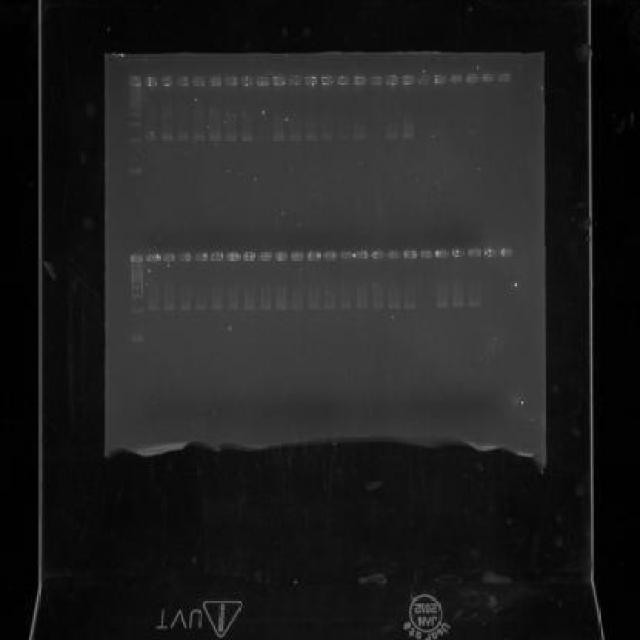B: (160, 132, 174, 142), (306, 302, 320, 312), (145, 132, 158, 142), (354, 301, 368, 310), (192, 134, 206, 142), (208, 134, 222, 142), (224, 134, 238, 142), (240, 134, 254, 142), (272, 134, 286, 142), (288, 134, 302, 142), (400, 132, 414, 140), (386, 132, 400, 140), (304, 133, 318, 141), (353, 133, 367, 141), (146, 304, 160, 312), (436, 302, 450, 310), (322, 303, 336, 311), (274, 304, 288, 312), (290, 303, 304, 311), (258, 304, 272, 312), (177, 133, 190, 141), (321, 133, 334, 141), (179, 304, 192, 312), (371, 302, 384, 310), (339, 302, 352, 310), (388, 303, 400, 311), (162, 306, 175, 312), (195, 304, 208, 310), (210, 304, 223, 310), (227, 304, 240, 310), (451, 302, 464, 308), (242, 306, 255, 312), (468, 302, 480, 308), (404, 303, 416, 309)
L: (127, 66, 516, 92), (128, 243, 516, 263)
M: (127, 93, 144, 182), (130, 269, 146, 348)
P: (128, 165, 142, 178), (130, 332, 144, 345), (131, 306, 144, 316), (128, 136, 142, 144), (128, 110, 142, 118), (130, 284, 144, 292), (131, 292, 144, 300), (128, 121, 142, 127), (128, 106, 142, 111)
Pc: (143, 76, 159, 90), (271, 74, 287, 88), (368, 74, 384, 88), (432, 72, 448, 86), (416, 73, 432, 87), (401, 74, 416, 88), (384, 73, 399, 87), (128, 74, 142, 88), (160, 74, 174, 88), (176, 74, 190, 88), (288, 74, 302, 88), (320, 74, 334, 88), (336, 74, 350, 88), (449, 72, 463, 86), (224, 75, 239, 88), (464, 72, 479, 85), (351, 74, 367, 86), (192, 75, 206, 88), (208, 75, 222, 88), (240, 75, 254, 88), (256, 75, 270, 88), (304, 75, 318, 88), (482, 71, 496, 84), (386, 249, 402, 260), (226, 250, 240, 262), (242, 250, 256, 262), (258, 250, 272, 262), (274, 250, 288, 262), (436, 248, 450, 260), (419, 248, 433, 260), (403, 248, 417, 260), (497, 72, 512, 83), (371, 249, 386, 260), (307, 250, 321, 261), (499, 247, 513, 258), (484, 247, 498, 258), (451, 248, 466, 258), (178, 252, 192, 262), (194, 252, 208, 262), (210, 252, 224, 262), (468, 248, 482, 258), (130, 254, 144, 263), (146, 253, 160, 262), (162, 253, 176, 262), (323, 251, 337, 260), (356, 250, 370, 259), (338, 251, 352, 260), (290, 252, 304, 260)
